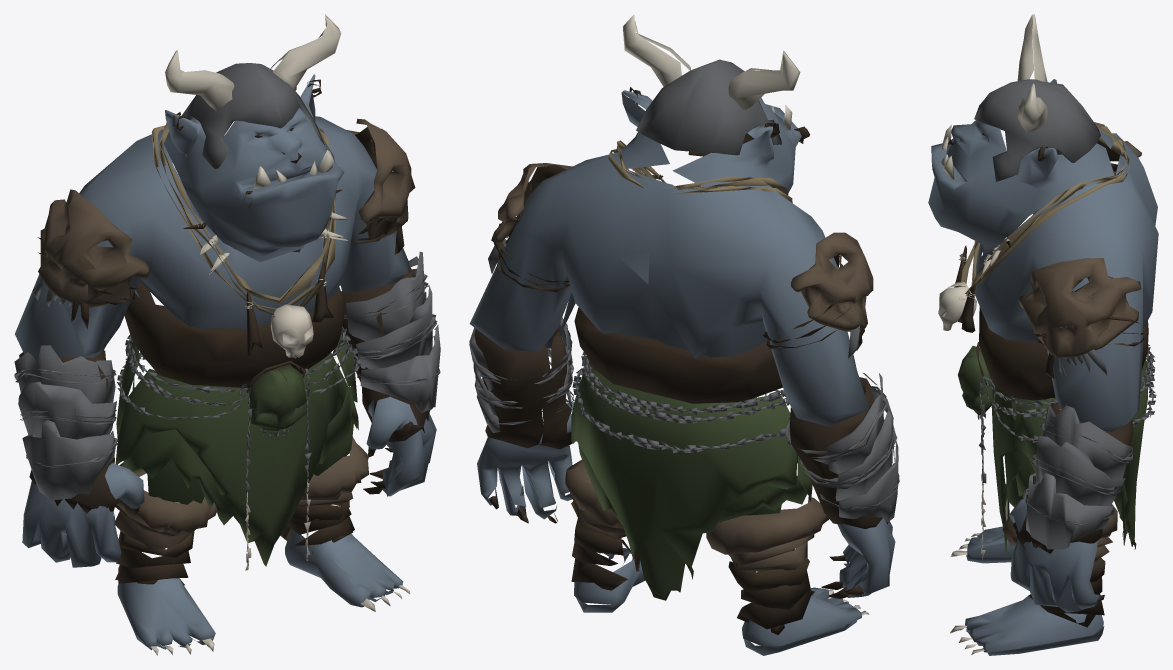
File: troll.glb
3 renders of one model, left to right at view 1: azimuth 30°, elevation 25°; view 2: azimuth 150°, elevation 25°; view 3: azimuth 270°, elevation 25°, orthographic. The views are drawn at different scales.
Visible parts, largest first — view 1: node_id30_mesh_id31; view 2: node_id30_mesh_id31; view 3: node_id30_mesh_id31.
Part boxes in pixels (x1,y1,x2,y2): node_id30_mesh_id31: [14, 14, 440, 655]; node_id30_mesh_id31: [469, 14, 899, 655]; node_id30_mesh_id31: [928, 14, 1158, 655].
Bounding box in the file's own units: 1.63 × 2.2 × 0.8328.
